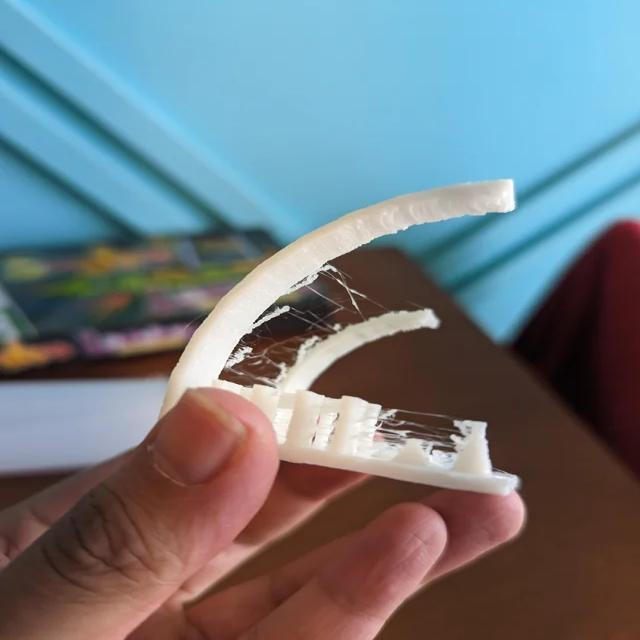Stringing: (225, 265, 391, 385), (384, 407, 476, 448)
